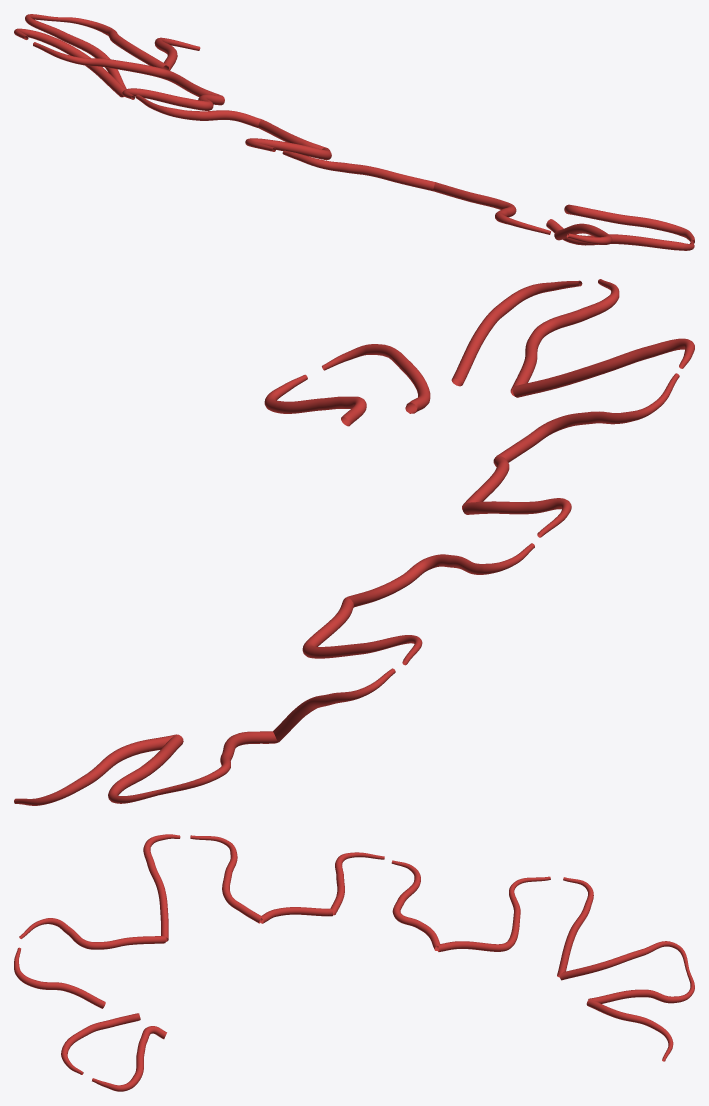
The picture shows the model from 3 angles, top to bottom: view 1: azimuth 30°, elevation 25°; view 2: azimuth 150°, elevation 25°; view 3: azimuth 270°, elevation 25°; orthographic projection. The views are drawn at different scales.
Visible parts, largest first — view 1: 右肾内动脉; view 2: 右肾内动脉; view 3: 右肾内动脉.
Boxes of the visible parts, x1,y1,x2,y2 form: 右肾内动脉: (14,14,694,250); 右肾内动脉: (14,279,694,805); 右肾内动脉: (14,834,694,1091).
Bounding box in the file's own units: 0.0604 × 0.027 × 0.1164.
